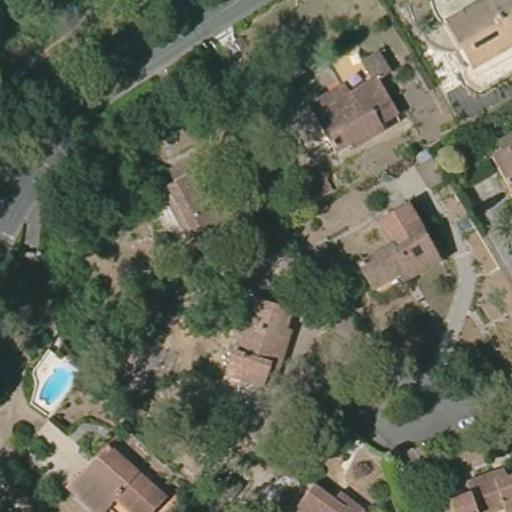pool: (35, 360, 75, 413)
